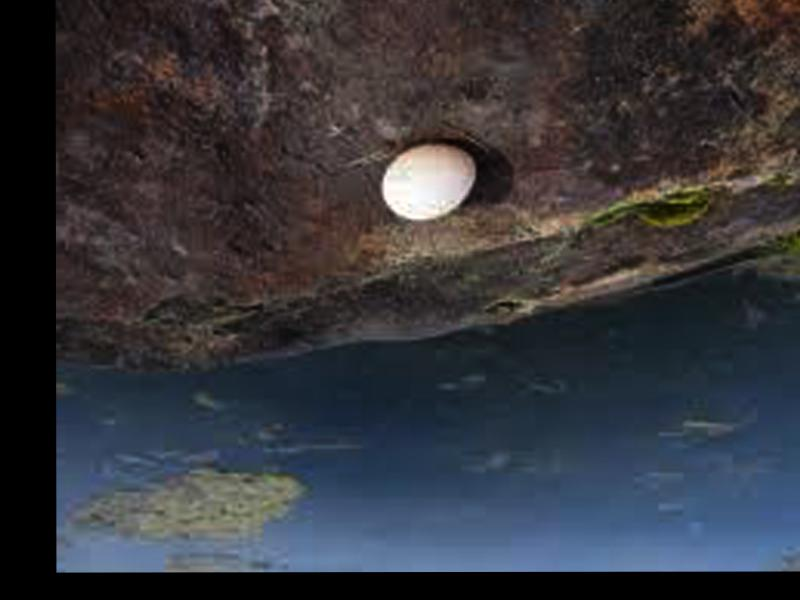Eggs: (376, 144, 475, 222)
